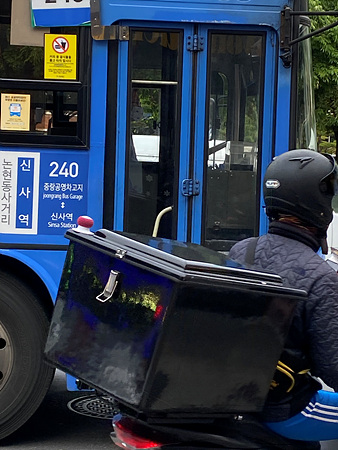entrance: (126, 27, 270, 252)
